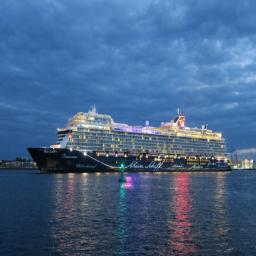cruises: (27, 104, 236, 178)
